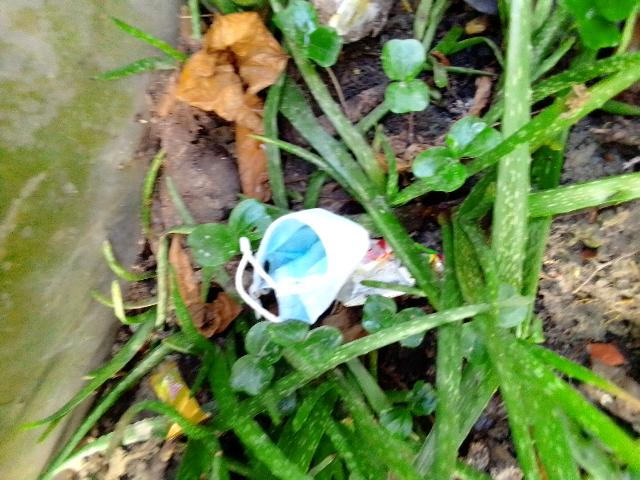mask: (221, 191, 378, 337)
